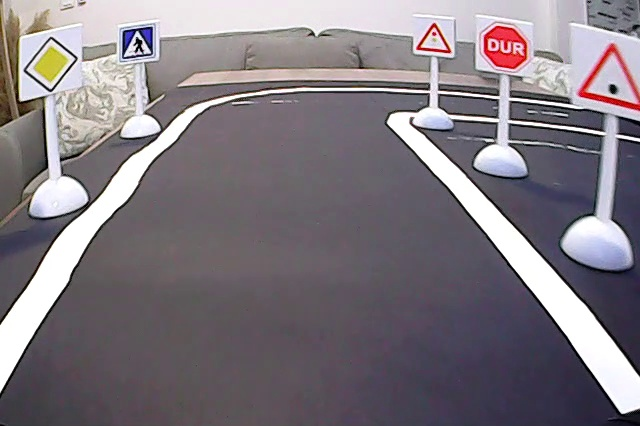green light: (574, 34, 640, 118)
pedestrian crossing: (119, 25, 161, 66)
red light: (414, 20, 454, 58)
stop sign: (477, 20, 533, 75)
